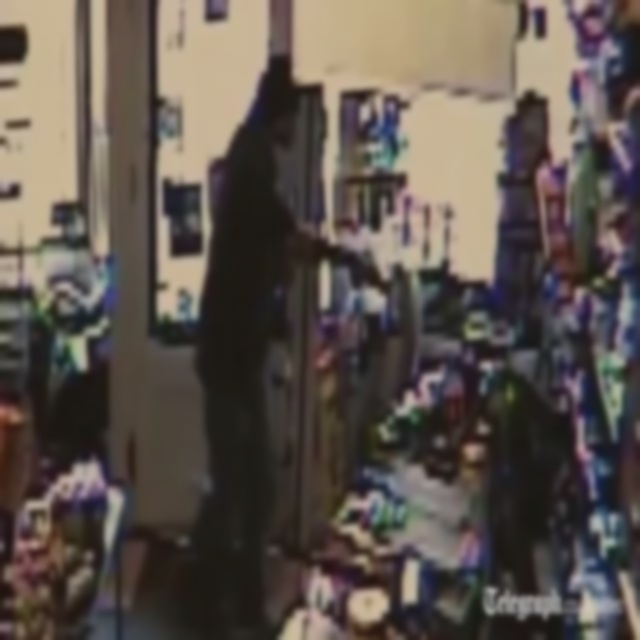gun: (359, 247, 387, 296)
